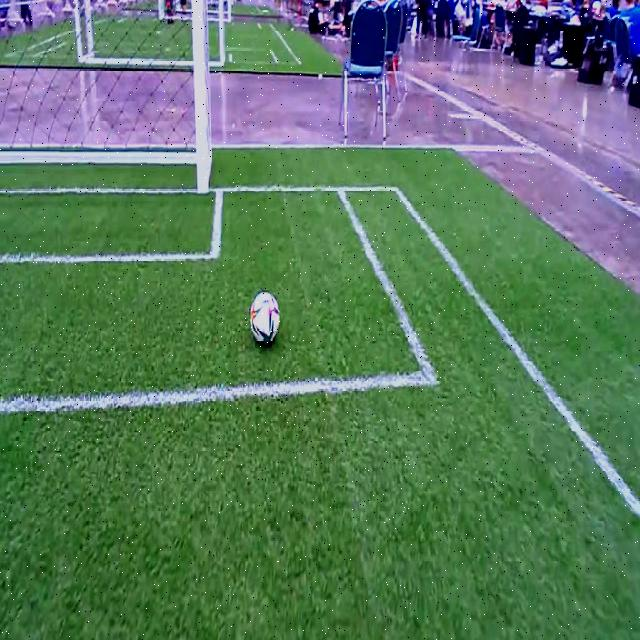ball: (250, 292, 280, 343)
